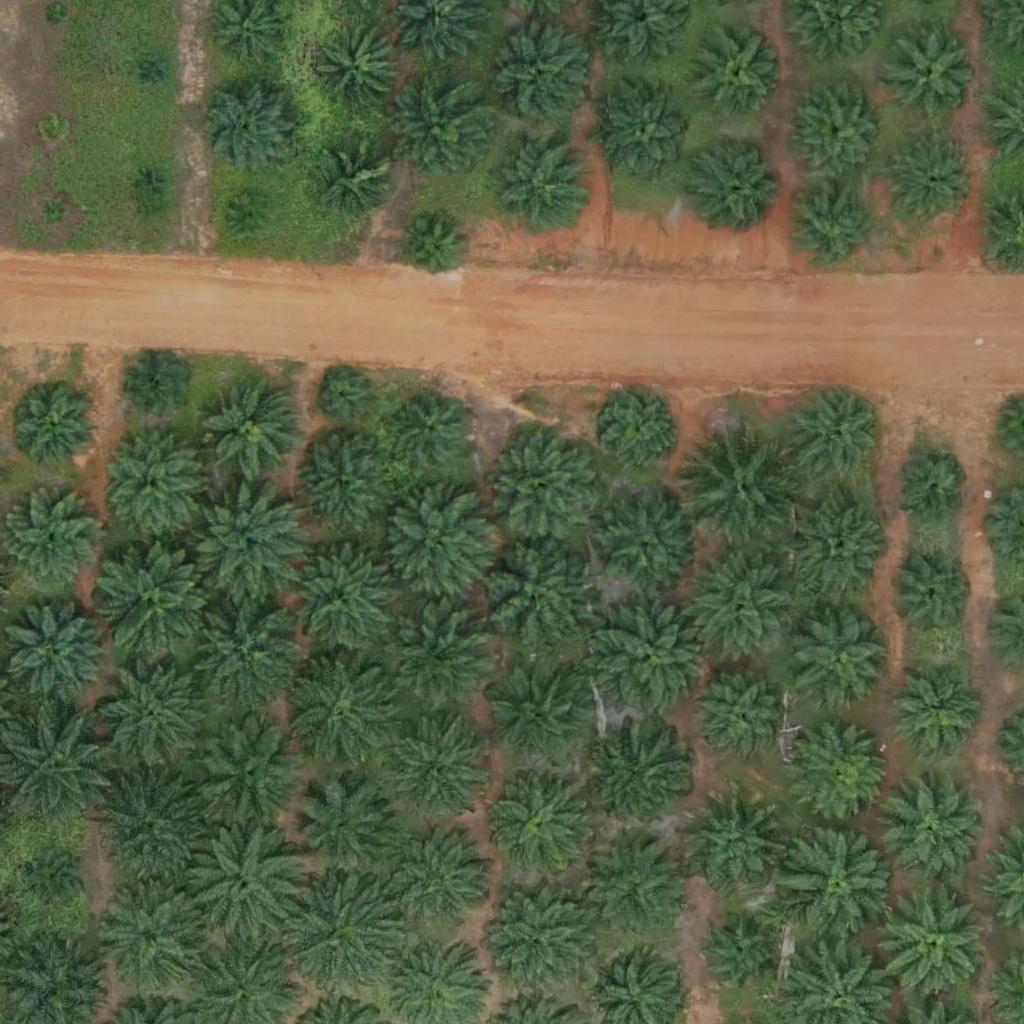Kelapa_Sawit: (94, 537, 219, 663), (90, 766, 215, 892), (177, 586, 302, 712), (187, 817, 312, 943), (282, 648, 407, 774), (277, 873, 402, 999), (482, 421, 607, 547), (470, 532, 595, 658), (475, 879, 600, 1005), (590, 596, 715, 722), (681, 422, 806, 548), (677, 545, 802, 671), (779, 821, 904, 947), (871, 881, 996, 1007), (278, 540, 403, 665), (191, 486, 304, 599), (192, 718, 305, 831), (287, 774, 400, 887), (386, 828, 499, 941), (99, 881, 211, 995), (191, 71, 303, 184), (2, 598, 114, 711), (93, 655, 205, 768), (380, 489, 492, 602), (381, 601, 493, 714), (392, 80, 492, 181), (486, 25, 586, 126), (491, 135, 591, 236), (102, 432, 202, 533), (202, 380, 302, 481), (291, 434, 391, 535), (490, 668, 590, 769), (491, 769, 591, 870), (598, 724, 698, 825), (586, 829, 686, 930), (689, 792, 789, 893), (597, 84, 697, 184), (689, 135, 789, 235), (791, 81, 891, 181), (596, 493, 696, 593), (786, 385, 886, 485), (790, 501, 890, 601), (790, 608, 890, 708), (792, 725, 892, 825), (883, 781, 983, 881), (315, 26, 403, 114), (888, 31, 976, 119), (890, 137, 978, 225), (12, 385, 100, 473), (393, 724, 481, 812), (892, 671, 980, 759), (887, 550, 974, 638), (697, 27, 784, 115), (791, 184, 878, 272), (698, 675, 785, 763), (603, 390, 678, 466), (891, 450, 966, 526), (322, 144, 397, 219), (394, 393, 469, 468), (700, 918, 775, 993), (401, 217, 464, 280), (23, 852, 86, 915), (124, 355, 187, 418), (319, 372, 369, 422), (231, 193, 269, 231), (43, 4, 68, 29), (39, 116, 64, 141), (42, 200, 67, 225), (142, 58, 167, 83), (135, 168, 160, 193)
